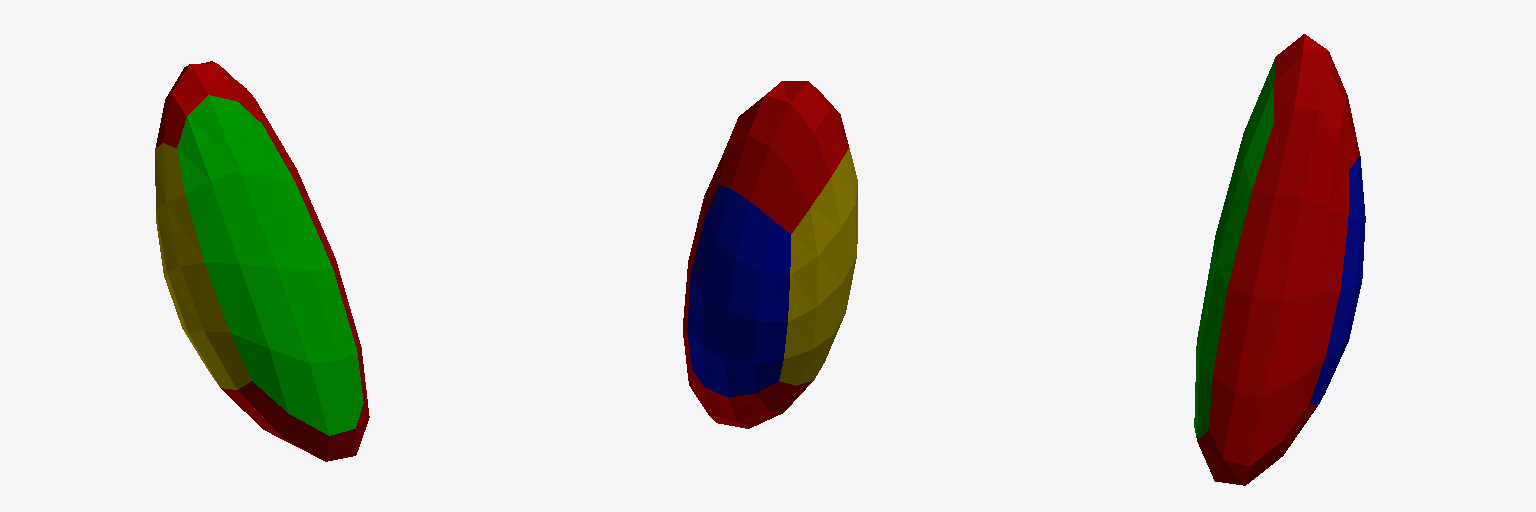
Rendered from oblong.obj.
The picture shows the model from 3 angles: view 1: azimuth 30°, elevation 25°; view 2: azimuth 150°, elevation 25°; view 3: azimuth 270°, elevation 25°; orthographic projection.
Visible parts, largest first — view 1: Cube; view 2: Cube; view 3: Cube.
Part boxes in pixels (x1,y1,x2,y2): Cube: (155,61,369,461); Cube: (683,81,857,428); Cube: (1194,34,1365,485).
Bounding box in the file's own units: 1.51 × 3.2 × 1.27.